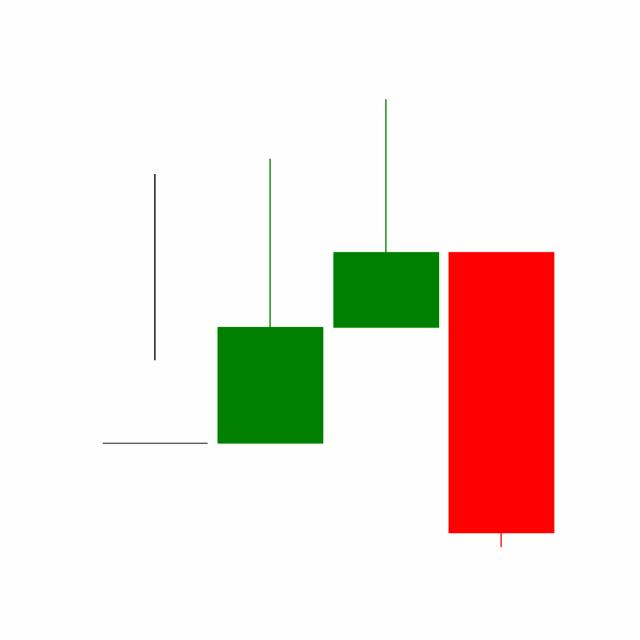Marubozu: (443, 249, 559, 551)
